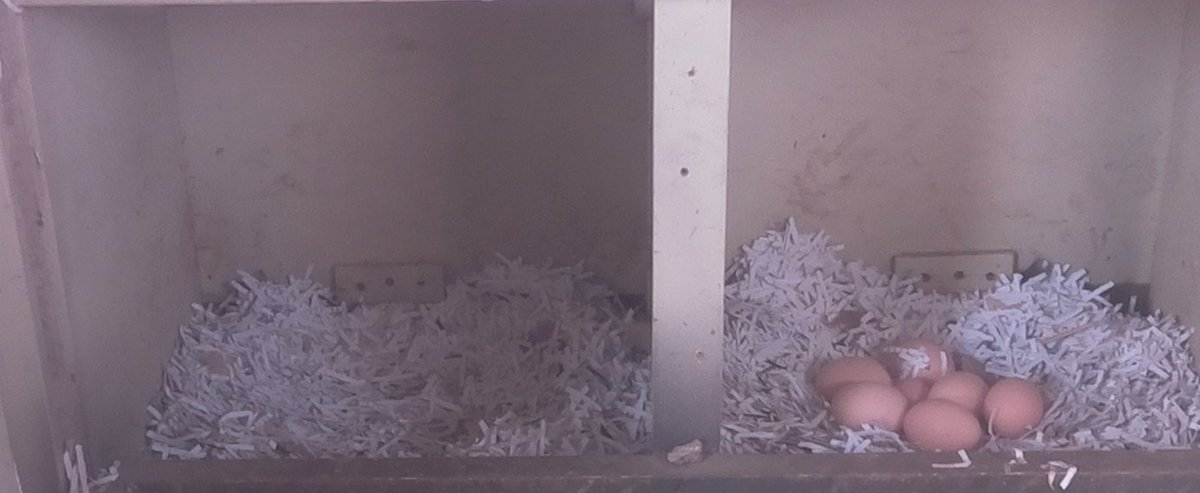egg: (899, 393, 992, 457), (823, 377, 918, 439), (983, 376, 1048, 439), (813, 350, 893, 396), (878, 334, 957, 380), (929, 367, 990, 417), (951, 345, 993, 389), (890, 371, 933, 411)
